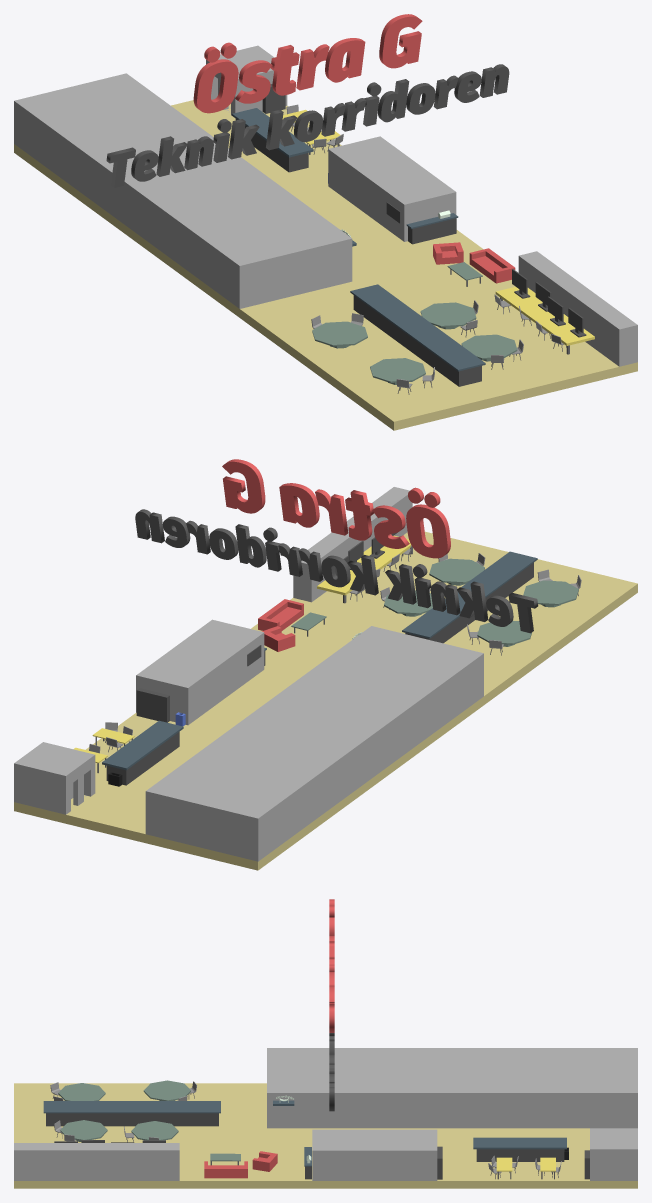
The model's file is Teknikkorridoren_v2.glb.
3 renders of one model, top to bottom at view 1: azimuth 30°, elevation 25°; view 2: azimuth 150°, elevation 25°; view 3: azimuth 270°, elevation 25°, orthographic. The views are drawn at different scales.
Visible parts, largest first — view 1: Cube, Cube.032, Text.002, Text.001, Cube.006, Cube.016, Cube.002, Cube.001, Cube.017, Cube.003, Cylinder.016, Cylinder.014 (+5 smaller); view 2: Cube.032, Cube, Text.002, Text.001, Cube.006, Cube.003, Cube.016, Cube.002, Cube.030, Cube.001, Cylinder.001, Cylinder.013 (+5 smaller); view 3: Cube.032, Cube, Cube.006, Cube.016, Cube.003, Cube.002, Cube.001, Cube.030, Cube.031, Text.001, Cylinder.016, Cylinder.013 (+3 smaller).
Boxes of the visible parts, x1=… form: Cube: x1=14, y1=100, x2=637, y2=430; Cube.032: x1=14, y1=73, x2=352, y2=308; Text.002: x1=106, y1=64, x2=509, y2=187; Text.001: x1=193, y1=14, x2=422, y2=113; Cube.006: x1=328, y1=136, x2=456, y2=241; Cube.016: x1=518, y1=251, x2=637, y2=366; Cube.002: x1=350, y1=284, x2=485, y2=371; Cube.001: x1=353, y1=295, x2=481, y2=386; Cube.017: x1=495, y1=286, x2=594, y2=345; Cube.003: x1=206, y1=45, x2=287, y2=115; Cylinder.016: x1=312, y1=321, x2=367, y2=348; Cylinder.014: x1=420, y1=302, x2=476, y2=329; Cube.032: x1=145, y1=626, x2=483, y2=861; Cube: x1=14, y1=531, x2=637, y2=870; Text.002: x1=135, y1=509, x2=538, y2=633; Text.001: x1=222, y1=459, x2=450, y2=558; Cube.006: x1=136, y1=619, x2=264, y2=725; Cube.003: x1=14, y1=742, x2=95, y2=814; Cube.016: x1=293, y1=487, x2=412, y2=602; Cube.002: x1=402, y1=551, x2=537, y2=638; Cube.030: x1=102, y1=720, x2=183, y2=770; Cube.001: x1=405, y1=562, x2=533, y2=643; Cylinder.001: x1=523, y1=580, x2=578, y2=607; Cylinder.013: x1=429, y1=558, x2=484, y2=585; Cube.032: x1=267, y1=1048, x2=637, y2=1128; Cube: x1=14, y1=1083, x2=637, y2=1188; Cube.006: x1=312, y1=1129, x2=437, y2=1180; Cube.016: x1=14, y1=1143, x2=179, y2=1180; Cube.003: x1=590, y1=1128, x2=637, y2=1180; Cube.002: x1=43, y1=1101, x2=220, y2=1113; Cube.001: x1=46, y1=1113, x2=218, y2=1126; Cube.030: x1=473, y1=1137, x2=566, y2=1149; Cube.031: x1=476, y1=1149, x2=564, y2=1161; Text.001: x1=329, y1=899, x2=334, y2=1032; Cylinder.016: x1=143, y1=1080, x2=190, y2=1100; Cylinder.013: x1=60, y1=1120, x2=107, y2=1142.
Size of what is drawn, in the model's own units: 97.18 by 55.33 by 160.
